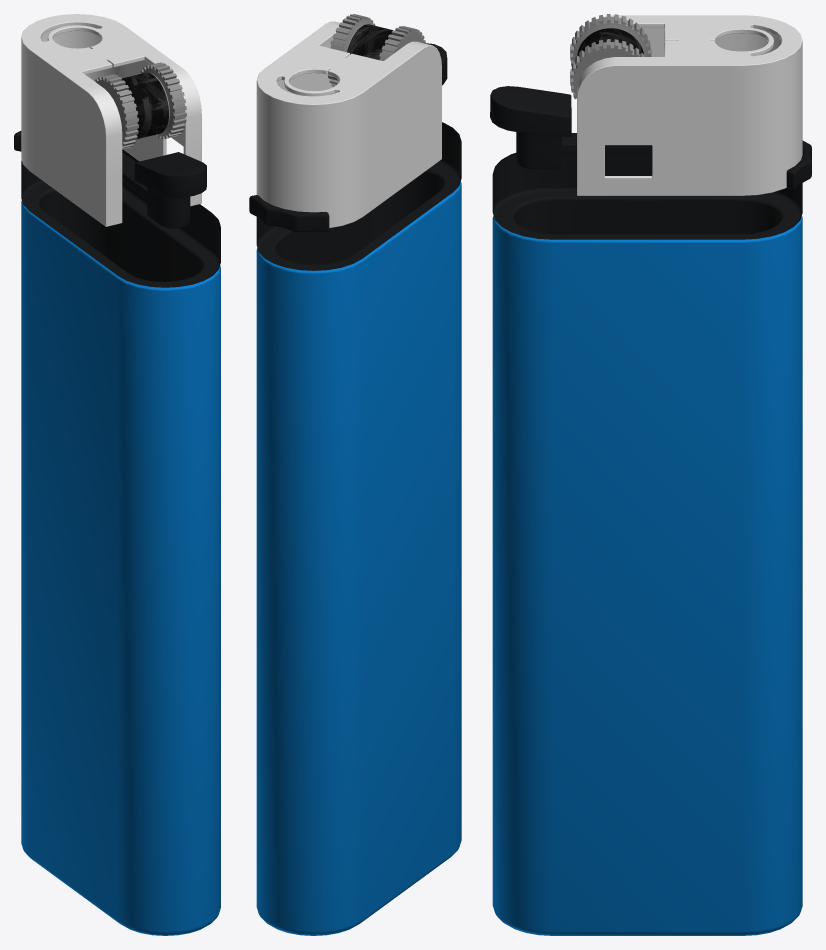
File: brika_lp.glb
The picture shows the model from 3 angles, left to right: view 1: azimuth 30°, elevation 25°; view 2: azimuth 150°, elevation 25°; view 3: azimuth 270°, elevation 25°; orthographic projection. The views are drawn at different scales.
Parts seen in each view (by area): view 1: case_Baked, metal_Baked, plastic top_Baked, button_Baked, wheel_Baked, wheel.001_Baked; view 2: case_Baked, metal_Baked, plastic top_Baked, wheel_Baked, pac_Baked, wheel.001_Baked; view 3: case_Baked, metal_Baked, plastic top_Baked, button_Baked, wheel_Baked, wheel.001_Baked, pac_Baked.
Part boxes in pixels (x1,y1,x2,y2): case_Baked: (21,200,220,935); metal_Baked: (21,14,201,226); plastic top_Baked: (21,149,220,287); button_Baked: (122,152,206,228); wheel_Baked: (95,62,186,149); wheel.001_Baked: (122,72,168,139); case_Baked: (256,181,461,935); metal_Baked: (256,21,441,227); plastic top_Baked: (256,122,461,270); wheel_Baked: (328,14,425,86); pac_Baked: (249,195,329,232); wheel.001_Baked: (347,24,392,59); case_Baked: (492,215,802,935); metal_Baked: (577,15,802,195); plastic top_Baked: (492,153,802,239); button_Baked: (490,86,652,169); wheel_Baked: (570,14,651,98); wheel.001_Baked: (577,28,643,56); pac_Baked: (786,140,811,189).
Bounding box in the file's own units: 0.01 × 0.0821 × 0.027.
Materials: 10 (4 with a texture image).
